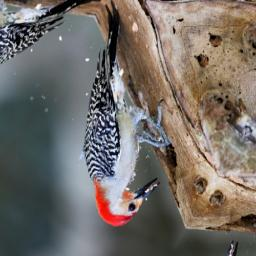Woodpecker: (17, 2, 219, 237)
